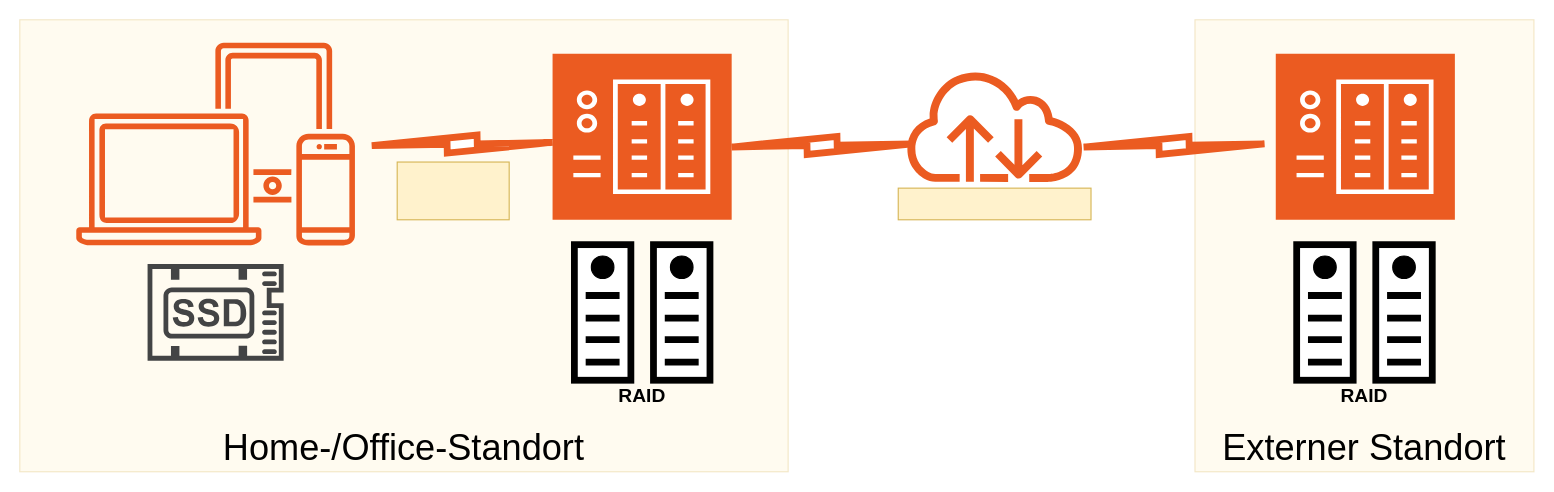
Image size: 1554x492. Some labels were removed from this diagram. Here are the shapes that lost their labels. From the top down, the centre of each, then its label:
At (x=452, y=190): "Internes Netzwerk".
At (x=994, y=203): "Externes Netzwerk".
